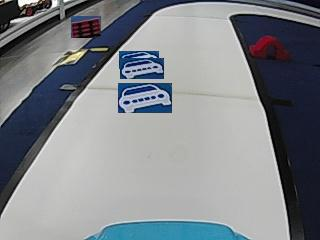bridge: (251, 33, 289, 60)
